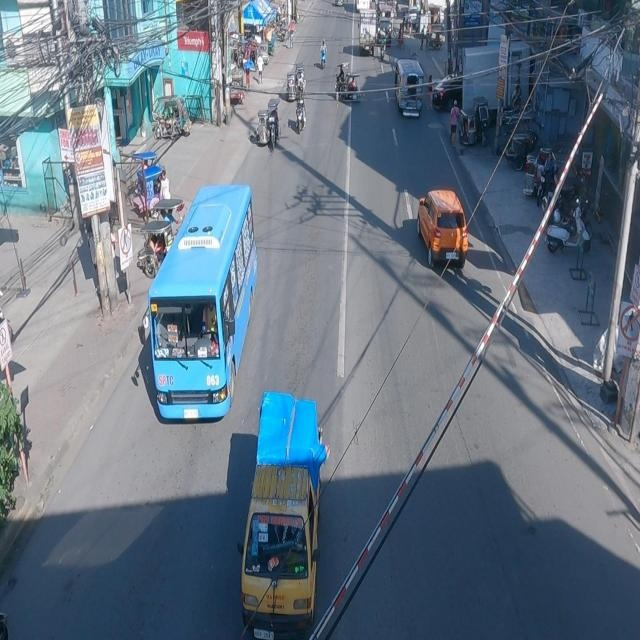Truck: (237, 399, 332, 640)
